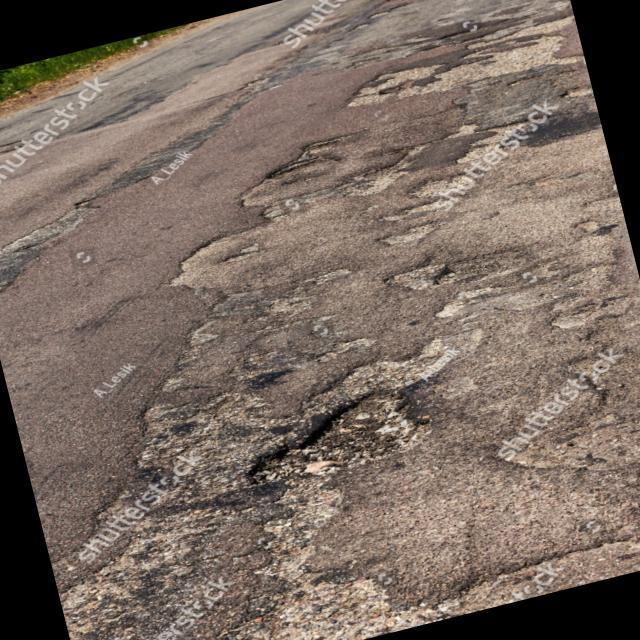Pothole: (201, 390, 640, 640), (228, 364, 458, 494), (340, 19, 586, 121), (0, 198, 114, 303), (247, 136, 364, 198), (372, 238, 474, 306), (375, 210, 464, 252)
